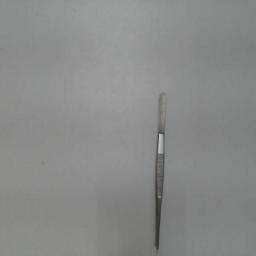Gillies Toothed Dissector: (154, 86, 170, 252)
